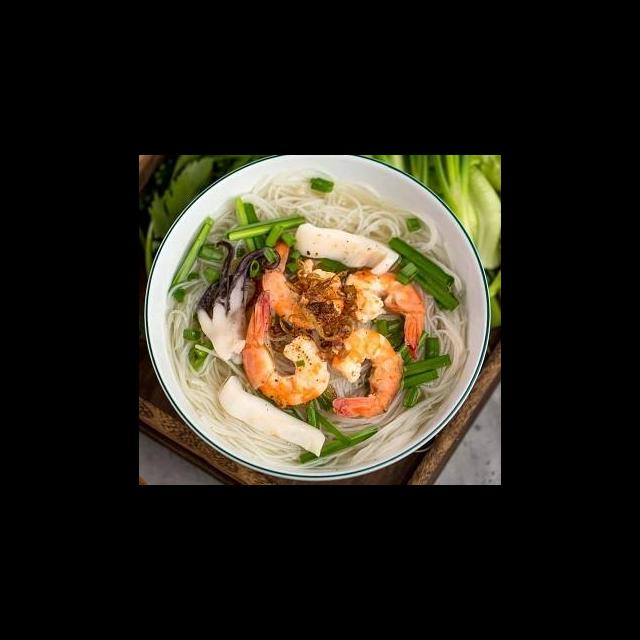hu tieu: (156, 280, 306, 473), (236, 165, 453, 253), (305, 397, 441, 475), (413, 285, 471, 410)
muc: (192, 238, 284, 363), (215, 372, 329, 460), (290, 221, 401, 278)
tom: (238, 286, 335, 413), (258, 229, 350, 333), (338, 263, 430, 363), (324, 324, 407, 423)
